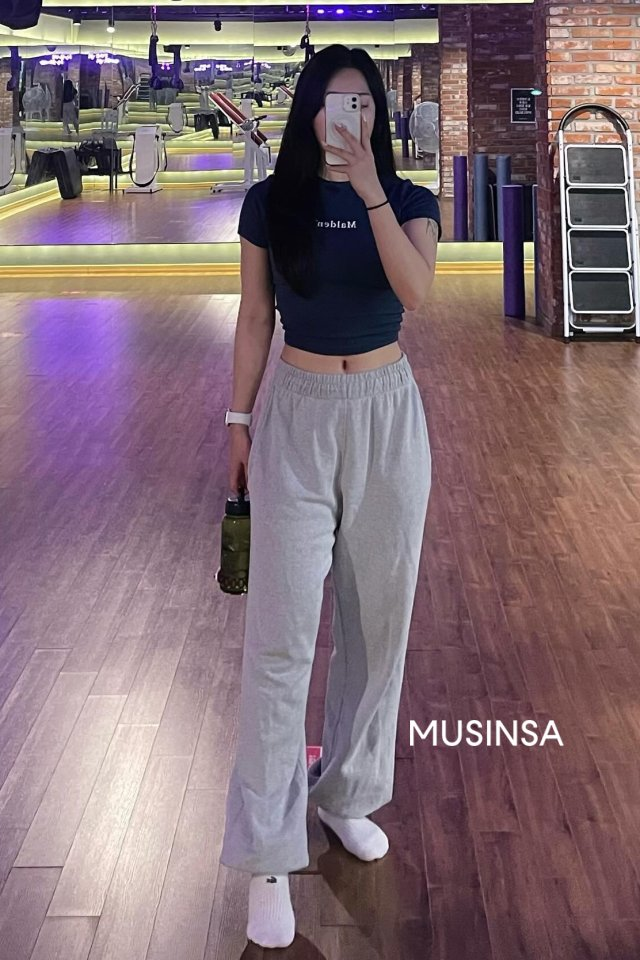Accessories: (215, 403, 261, 431)
Croptop: (232, 174, 458, 374)
Training pants: (241, 358, 434, 861)
